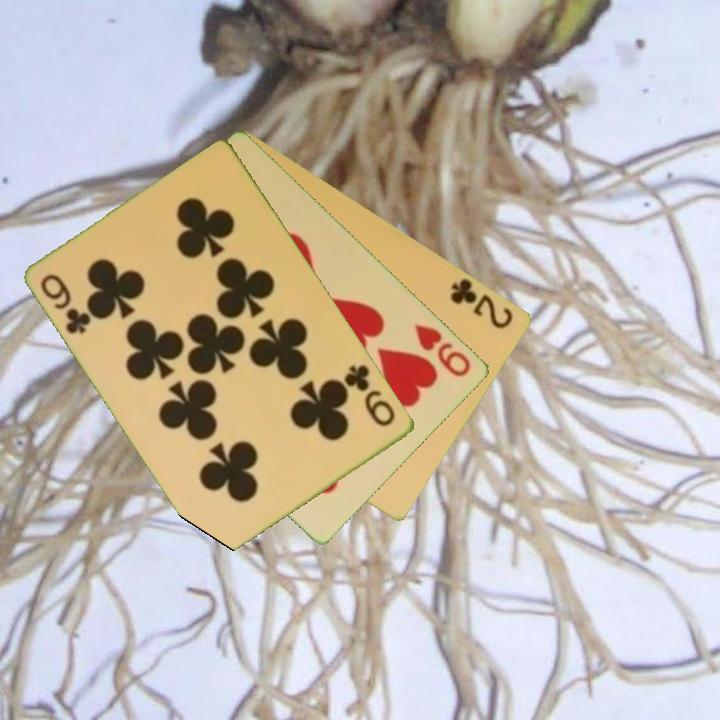2c: (447, 274, 517, 332)
9c: (341, 361, 399, 430), (37, 270, 95, 338)
9h: (411, 320, 475, 380)
